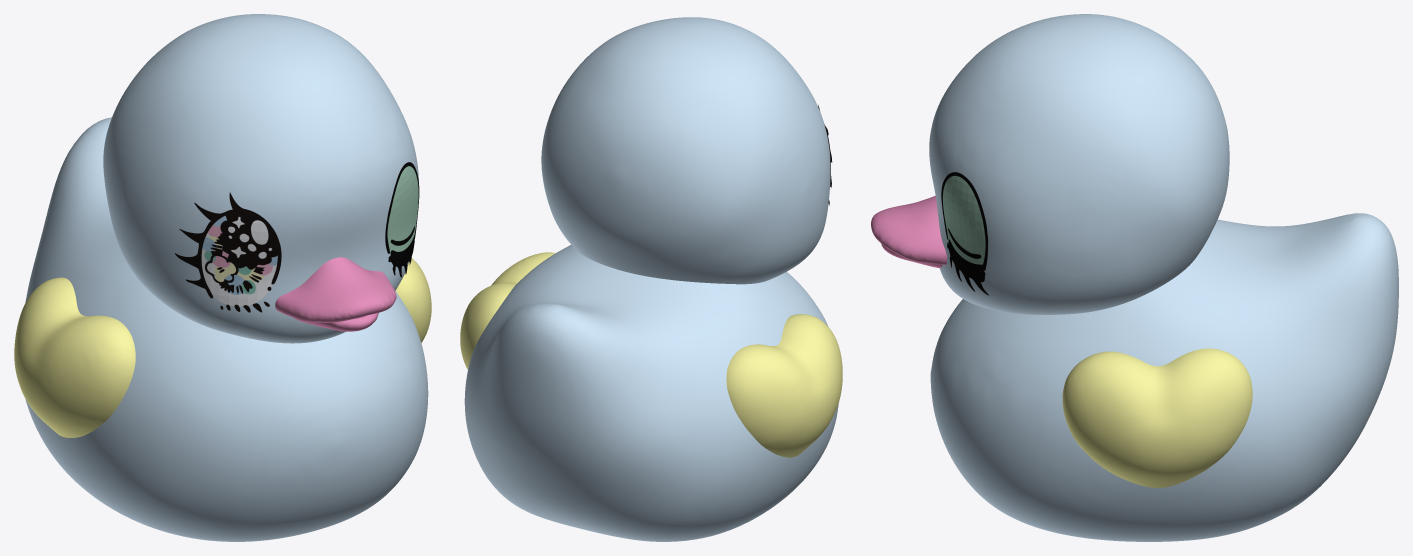
3 views of the same model, side by side, from view 1: azimuth 30°, elevation 25°; view 2: azimuth 150°, elevation 25°; view 3: azimuth 270°, elevation 25° (orthographic). The views are drawn at different scales.
Parts seen in each view (by area): view 1: Torebi 5, Fix, Torebi 7, 平面.002, Torebi 3, Torebi 4; view 2: Torebi 5, Fix, Torebi 7, Torebi 4; view 3: Torebi 5, Fix, Torebi 4, 平面.002, Torebi 3.
Boxes of the visible parts, x1,y1,x2,y2 form: Torebi 5: [25, 117, 428, 541]; Fix: [103, 14, 418, 343]; Torebi 7: [14, 277, 135, 437]; 平面.002: [175, 162, 419, 312]; Torebi 3: [275, 257, 396, 331]; Torebi 4: [395, 258, 431, 342]; Torebi 5: [464, 245, 838, 541]; Fix: [541, 17, 830, 284]; Torebi 7: [726, 314, 842, 457]; Torebi 4: [460, 252, 555, 369]; Torebi 5: [930, 213, 1398, 541]; Fix: [929, 14, 1229, 314]; Torebi 4: [1062, 348, 1252, 487]; 平面.002: [941, 172, 988, 295]; Torebi 3: [871, 195, 946, 268].
Size of the model in its own units: 50.64 by 60.08 by 62.26.
5 materials, 1 textured.
